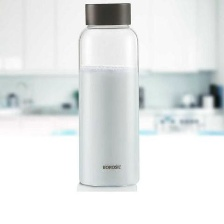bottle: (74, 0, 142, 190)
